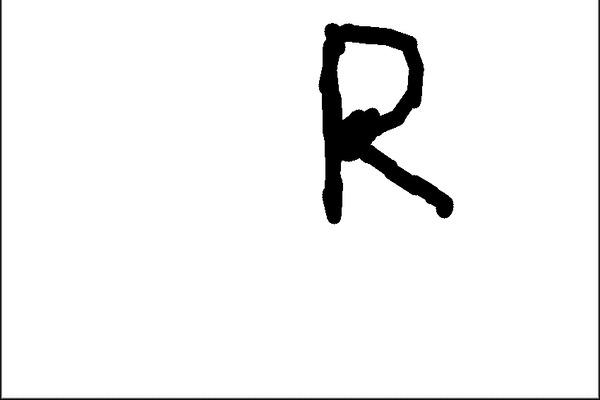R: (295, 2, 461, 228)
